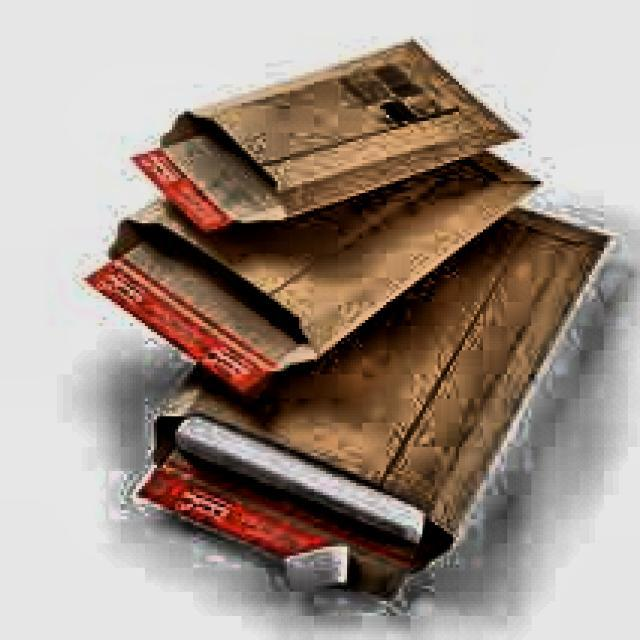cardboard: (136, 199, 610, 598)
